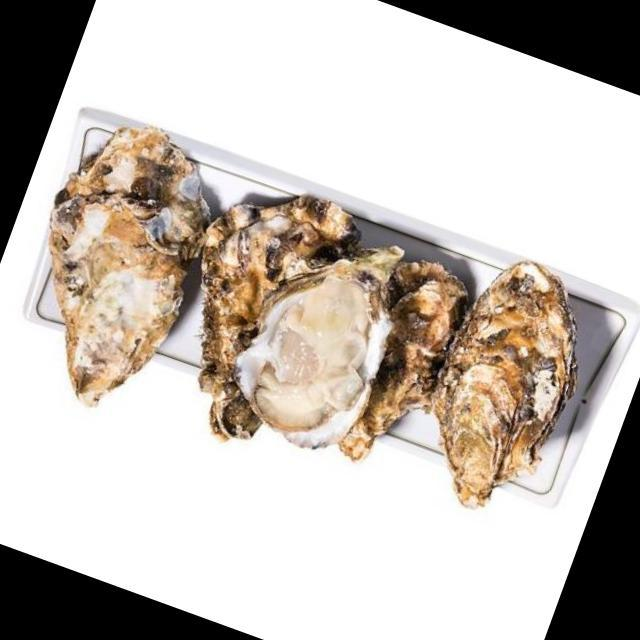Oyster- Indeterminate: (26, 113, 211, 427), (177, 181, 377, 463), (418, 249, 594, 521), (330, 251, 480, 472)
Oyster-Open: (217, 239, 417, 463)
